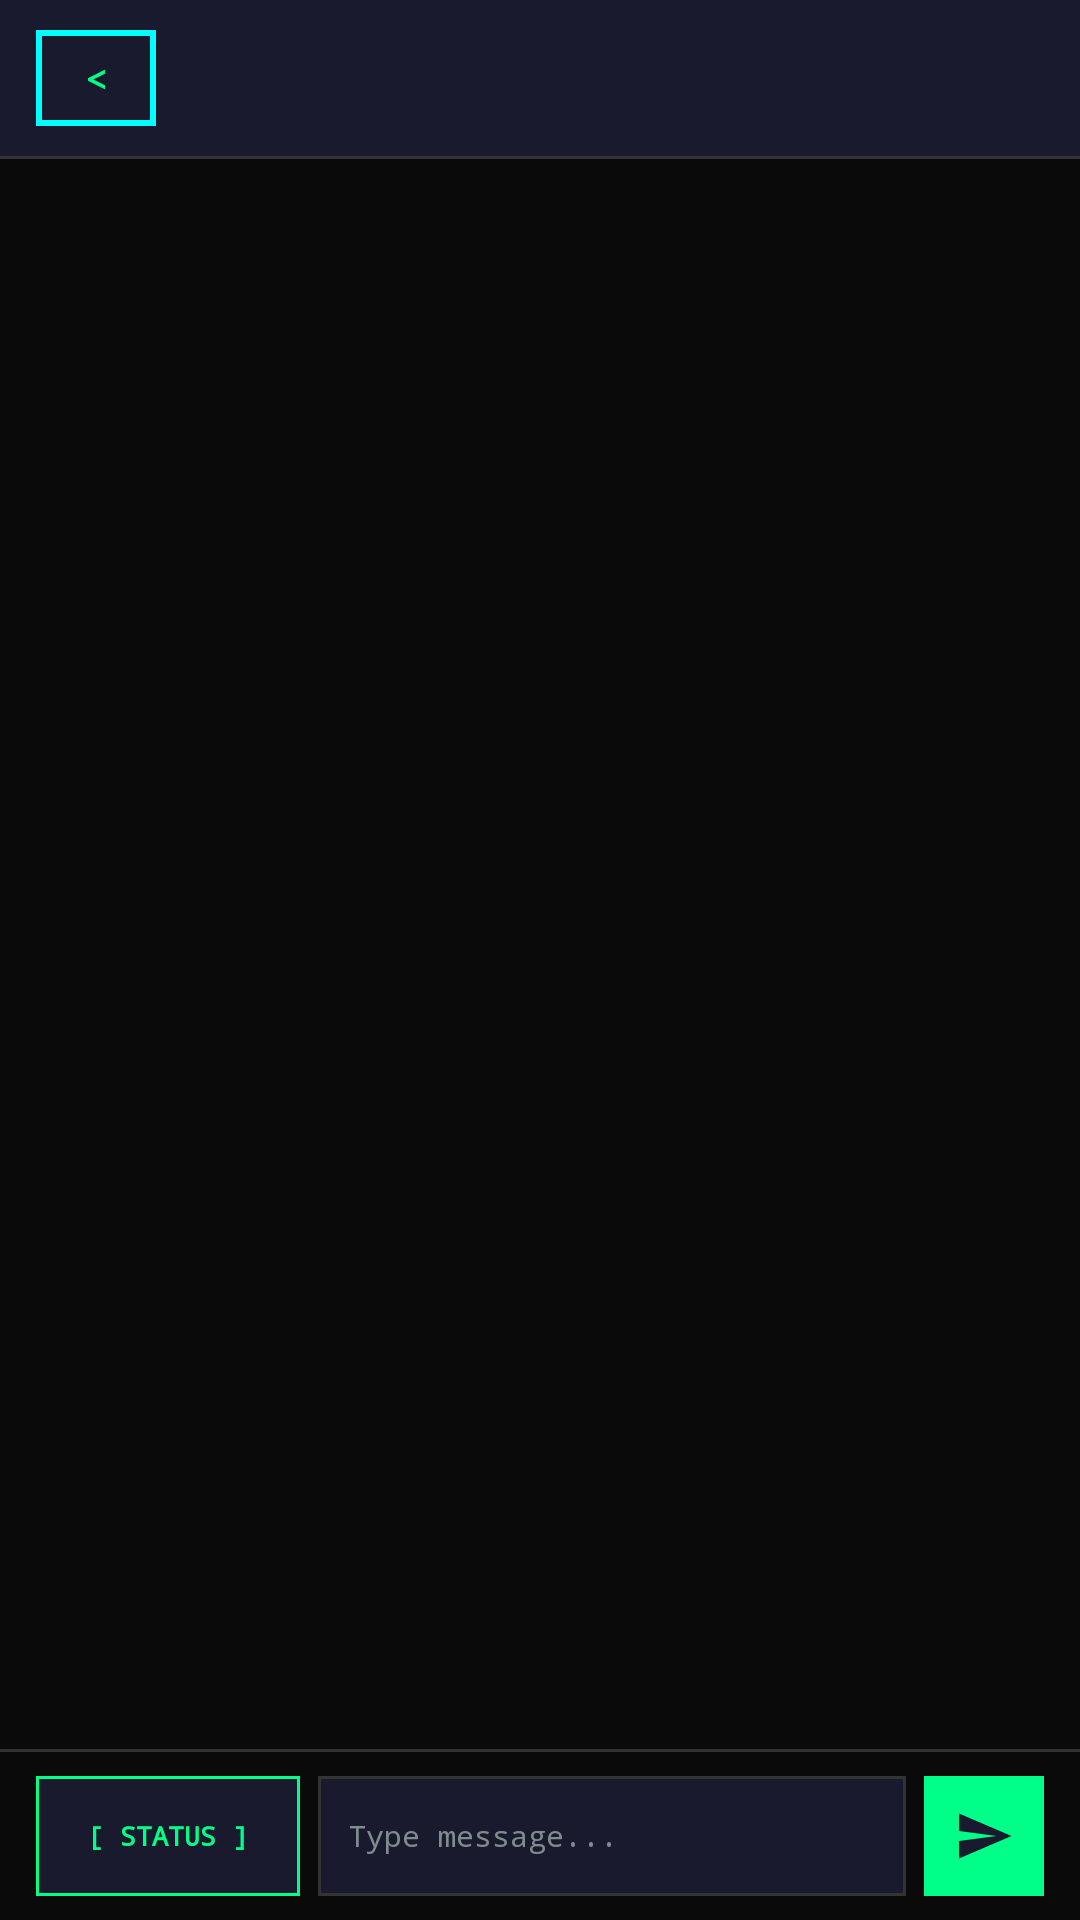

Named icons in this screenshot (1080*1920) and their centers, point (x, y):
SEND: point (984, 1836)
